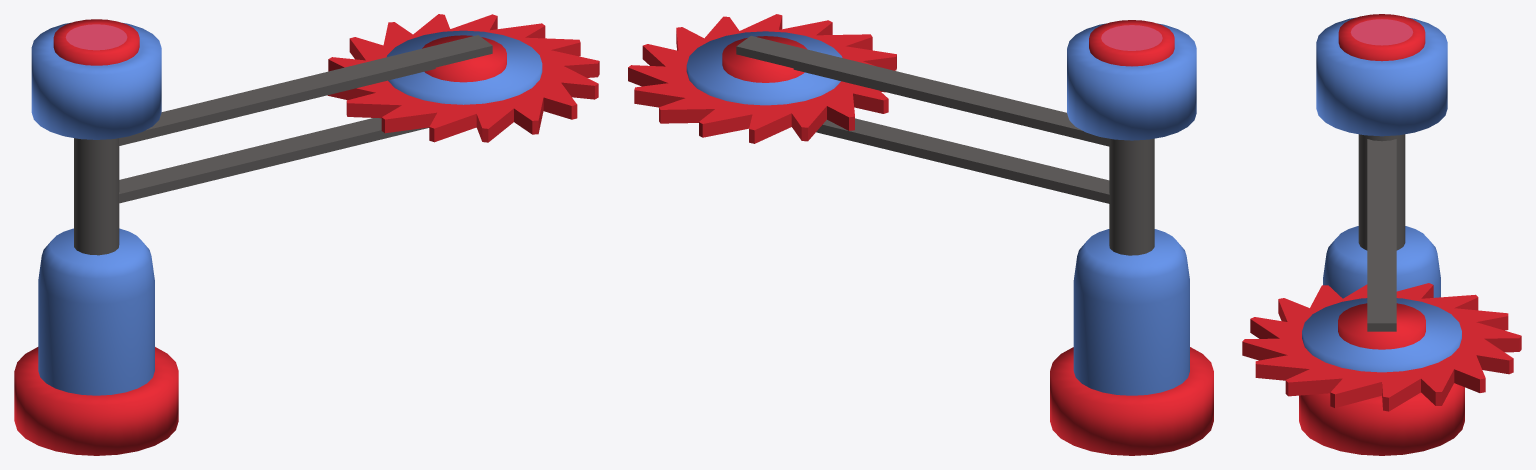
The model's file is Obstacle 16 V1.fbx.
The picture shows the model from 3 angles, left to right: view 1: azimuth 30°, elevation 25°; view 2: azimuth 150°, elevation 25°; view 3: azimuth 270°, elevation 25°; orthographic projection.
Visible parts, largest first — view 1: O16 Part 3, O16 Part 1, O16 Part 2; view 2: O16 Part 3, O16 Part 1, O16 Part 2; view 3: O16 Part 3, O16 Part 1, O16 Part 2.
Part boxes in pixels (x1,y1,x2,y2): O16 Part 3: (14, 19, 178, 455); O16 Part 1: (327, 14, 599, 142); O16 Part 2: (74, 35, 492, 255); O16 Part 3: (1050, 20, 1213, 455); O16 Part 1: (628, 14, 896, 143); O16 Part 2: (736, 36, 1154, 255); O16 Part 3: (1299, 14, 1464, 455); O16 Part 1: (1242, 283, 1521, 411); O16 Part 2: (1358, 134, 1405, 331).
Bounding box in the file's own units: 177 × 116 × 75.75.
Materials: 1 (1 with a texture image).
